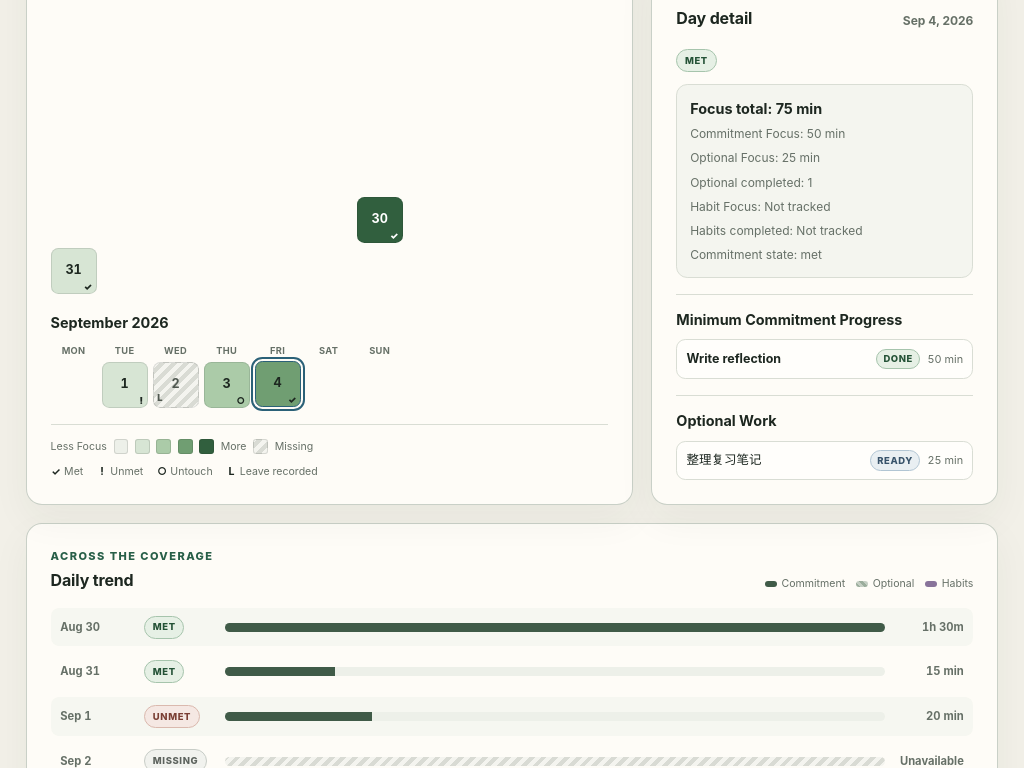
leave records › shows reasons and affected tasks on missing days without changing metrics
The width and height of the screenshot is (1024, 768).
(page scrolled)
What coordinates should you click on to do the following:
click the button "2 L"
I would click on:
 (176, 385)
Its box is [153, 362, 198, 408].
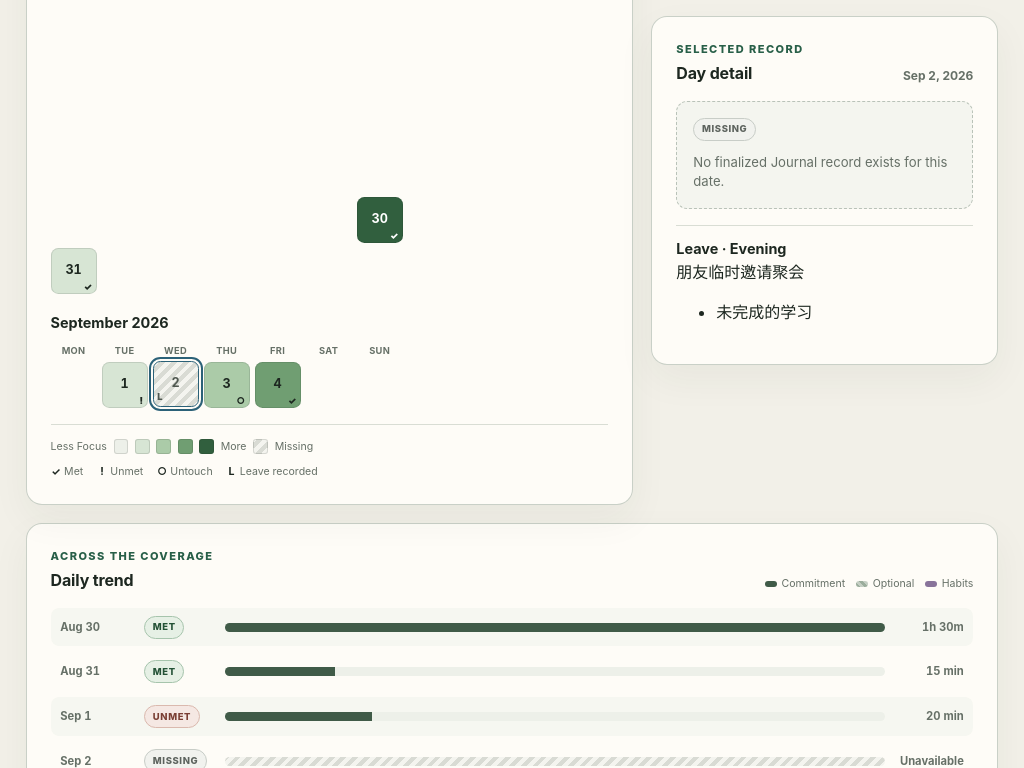
Expected: the heading "Leave · Evening" is shown, [676, 240, 786, 257]
Expected: the text "朋友临时邀请聚会" is shown, [676, 262, 804, 282]
Expected: the list item "未完成的学习" is shown, [716, 302, 812, 322]
